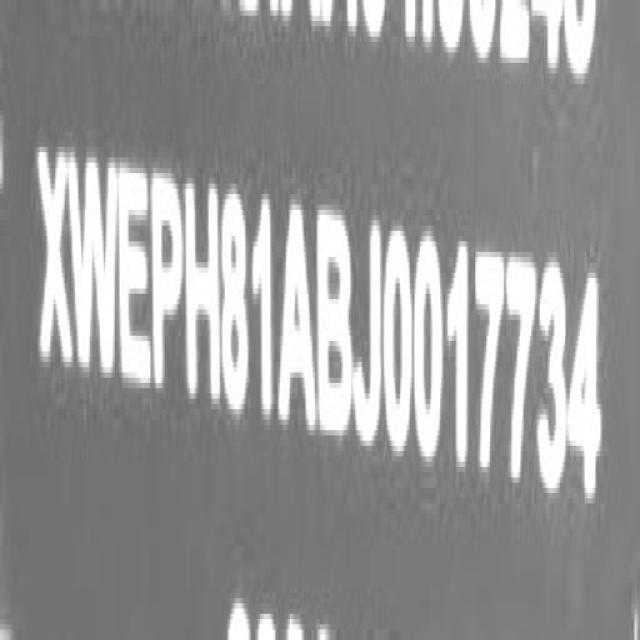0: (382, 218, 413, 473), (414, 226, 443, 477)
1: (254, 181, 278, 434), (448, 235, 472, 484)
3: (537, 261, 571, 504)
4: (569, 264, 604, 511)
7: (507, 245, 537, 495), (474, 240, 504, 489)
8: (221, 178, 250, 427)
A: (278, 198, 319, 445)
B: (318, 200, 353, 448)
E: (118, 152, 154, 399)
H: (188, 167, 222, 412)
J: (353, 214, 382, 461)
P: (152, 162, 185, 404)
W: (72, 137, 120, 398)
X: (34, 131, 72, 389)
